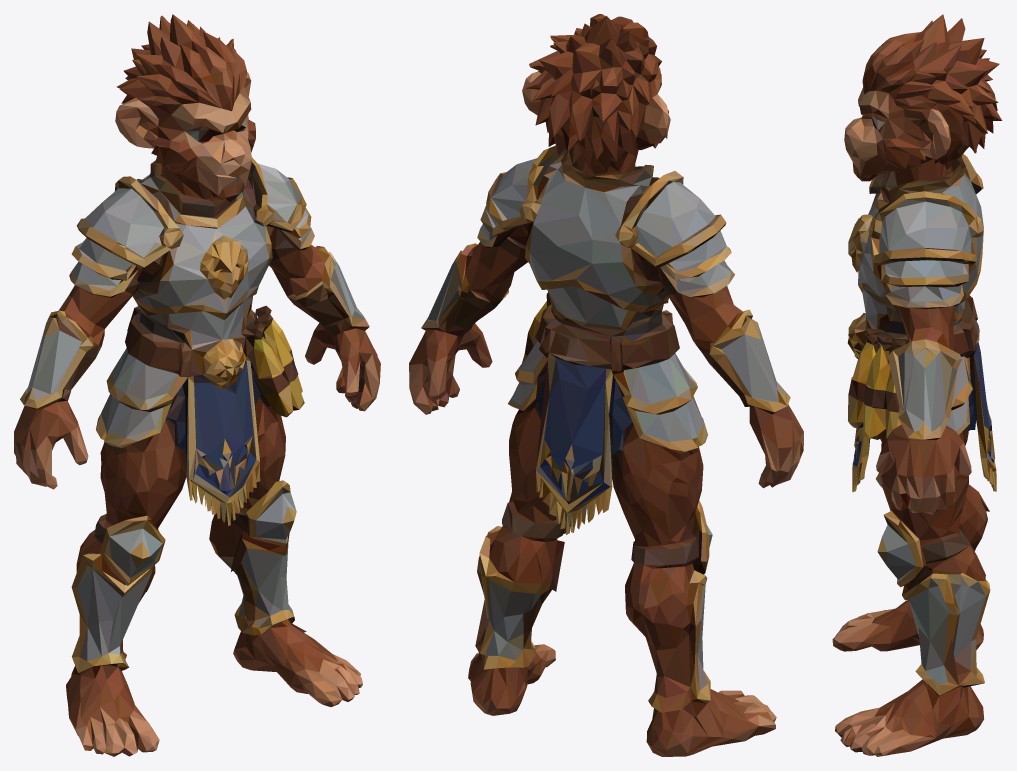
File: fabri.glb
The picture shows the model from 3 angles, left to right: view 1: azimuth 30°, elevation 25°; view 2: azimuth 150°, elevation 25°; view 3: azimuth 270°, elevation 25°; orthographic projection. The views are drawn at different scales.
Parts seen in each view (by area): view 1: tripo_node_4f5e3b04; view 2: tripo_node_4f5e3b04; view 3: tripo_node_4f5e3b04.
Boxes of the visible parts, bbox=[...] form: tripo_node_4f5e3b04: bbox=[14, 14, 380, 756]; tripo_node_4f5e3b04: bbox=[409, 14, 803, 756]; tripo_node_4f5e3b04: bbox=[832, 14, 1002, 756].
Bounding box in the file's own units: 1.07 × 1.95 × 0.4471.
